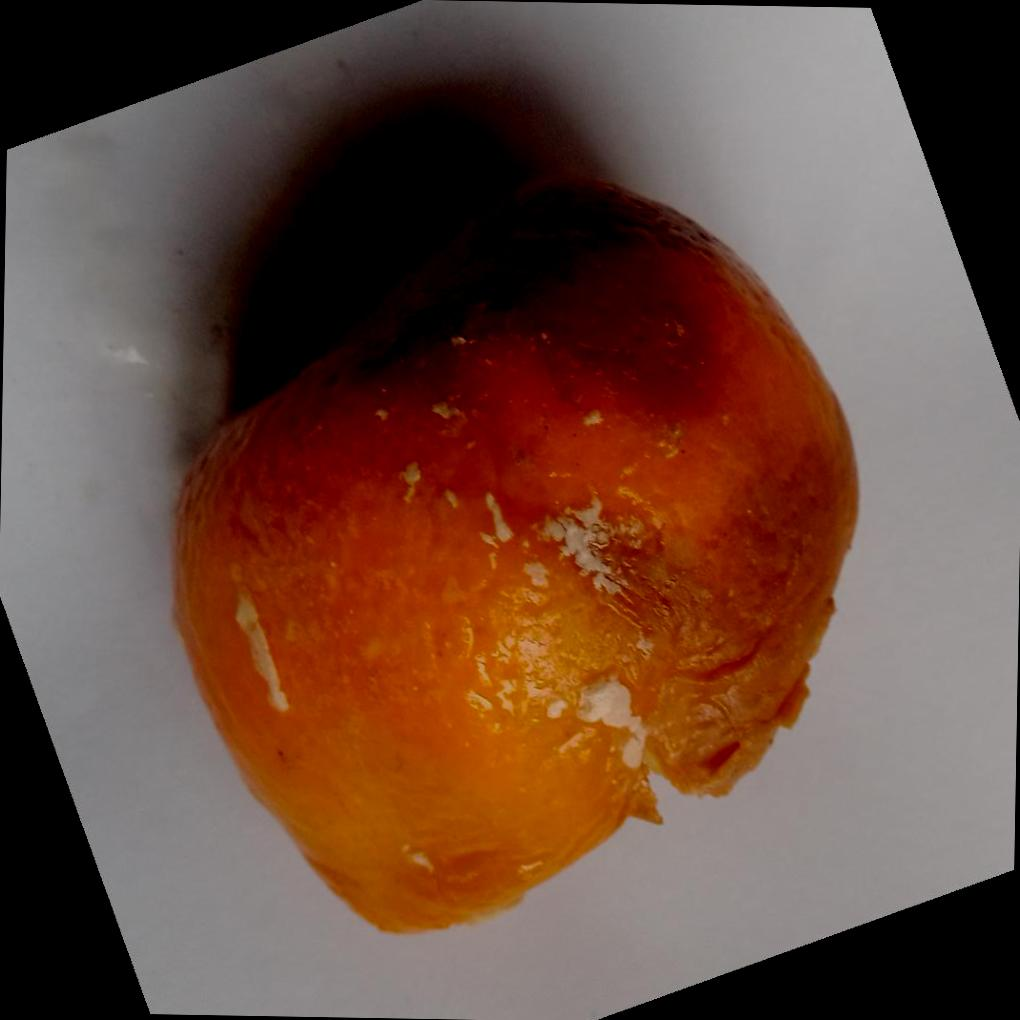FreshOrange: (171, 174, 863, 936)
